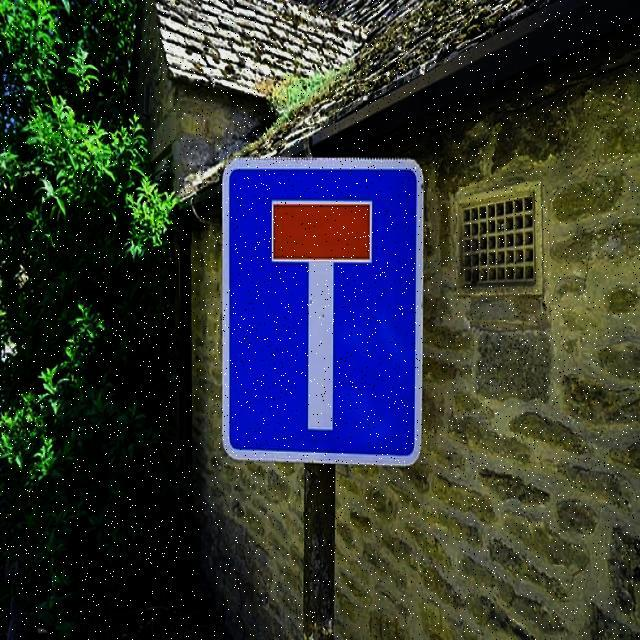Traffic sign: (214, 149, 432, 476)
